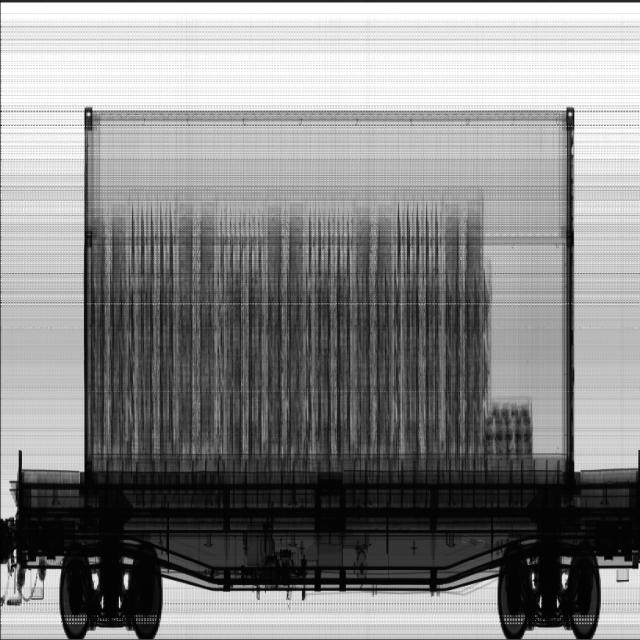auto parts: (485, 400, 534, 458)
